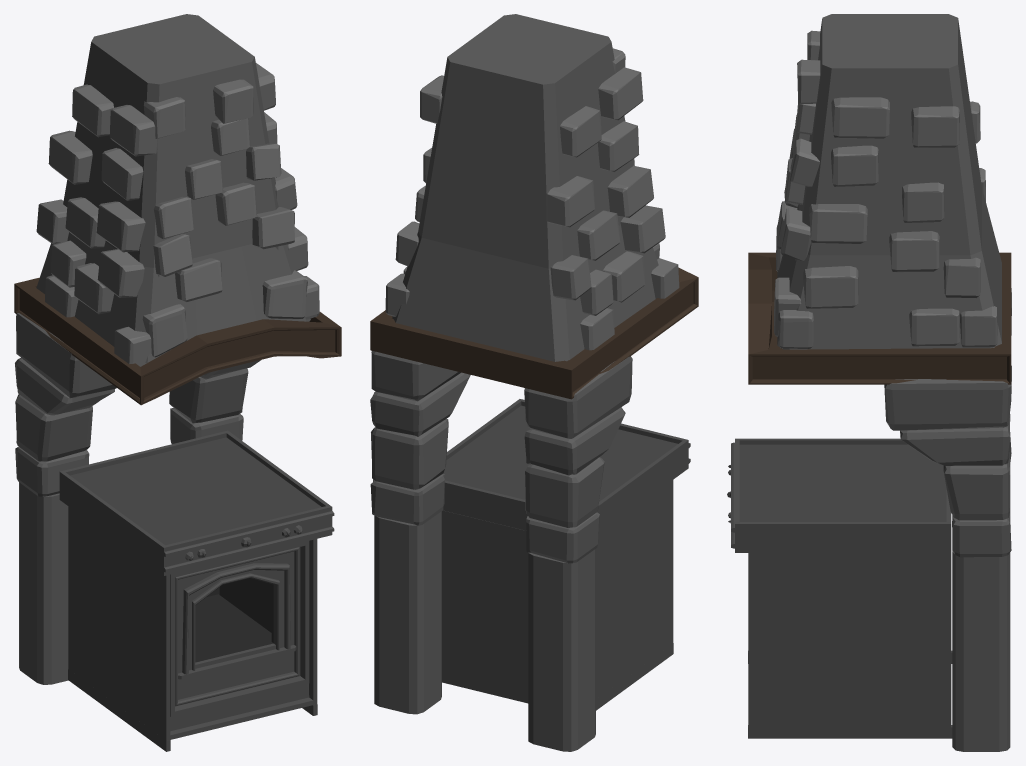
Rendered from Печь.fbx.
3 views of the same model, side by side, from view 1: azimuth 30°, elevation 25°; view 2: azimuth 150°, elevation 25°; view 3: azimuth 270°, elevation 25° (orthographic). The views are drawn at different scales.
Visible parts, largest first — view 1: Вытяжка_hp.001, Cube.008, Столб_hp; view 2: Вытяжка_hp.001, Столб_hp, Cube.008; view 3: Вытяжка_hp.001, Cube.008, Столб_hp.
Boxes of the visible parts, x1=… form: Вытяжка_hp.001: x1=14, y1=14, x2=341, y2=405; Cube.008: x1=59, y1=430, x2=334, y2=751; Столб_hp: x1=15, y1=313, x2=261, y2=684; Вытяжка_hp.001: x1=370, y1=14, x2=698, y2=399; Столб_hp: x1=370, y1=351, x2=632, y2=751; Cube.008: x1=442, y1=399, x2=690, y2=710; Вытяжка_hp.001: x1=748, y1=14, x2=1011, y2=384; Cube.008: x1=727, y1=438, x2=952, y2=738; Столб_hp: x1=884, y1=288, x2=1011, y2=751.
Size of the model in its own units: 253 by 741 by 290.
